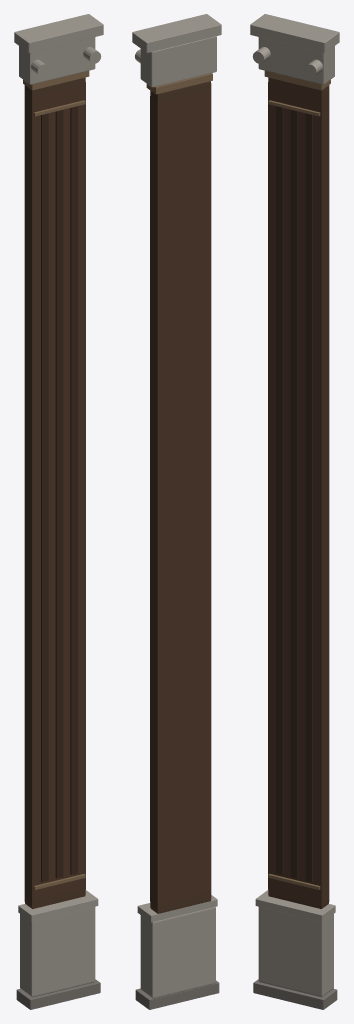
The model's file is arch_pilaster.glb.
3 views of the same model, side by side, from view 1: azimuth 30°, elevation 25°; view 2: azimuth 210°, elevation 25°; view 3: azimuth 330°, elevation 25° (orthographic).
Parts seen in each view (by area): view 1: arch_pilaster; view 2: arch_pilaster; view 3: arch_pilaster.
Boxes of the visible parts, x1,y1,x2,y2 form: arch_pilaster: (14, 14, 103, 1009); arch_pilaster: (132, 14, 221, 1009); arch_pilaster: (250, 14, 339, 1009).
Size of the model in its own units: 0.92 by 11.33 by 0.38.
